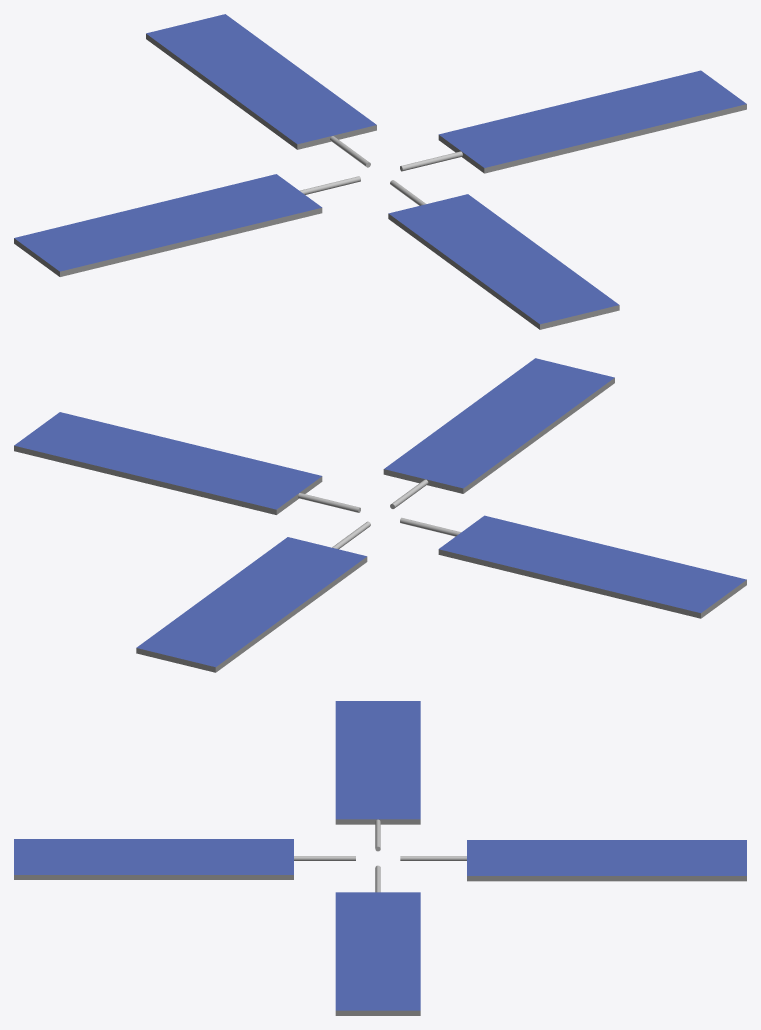
Rendered from SatWings3Unity.fbx.
The picture shows the model from 3 angles, top to bottom: view 1: azimuth 30°, elevation 25°; view 2: azimuth 150°, elevation 25°; view 3: azimuth 270°, elevation 25°; orthographic projection. The views are drawn at different scales.
Visible parts, largest first — view 1: SatWing1, SatWing2, SatWing4, SatWing3; view 2: SatWing1, SatWing2, SatWing3, SatWing4; view 3: SatWing3, SatWing4, SatWing2, SatWing1.
Boxes of the visible parts, x1,y1,x2,y2 form: SatWing1: (14,174,322,276); SatWing2: (438,70,746,173); SatWing4: (388,194,619,329); SatWing3: (146,14,376,149); SatWing1: (438,515,746,618); SatWing2: (14,412,322,514); SatWing3: (136,537,367,672); SatWing4: (383,358,614,493); SatWing3: (467,840,746,881); SatWing4: (14,839,293,879); SatWing2: (335,892,420,1015); SatWing1: (335,701,420,824).
Bounding box in the file's own units: 25.9 × 0.2 × 25.9.
